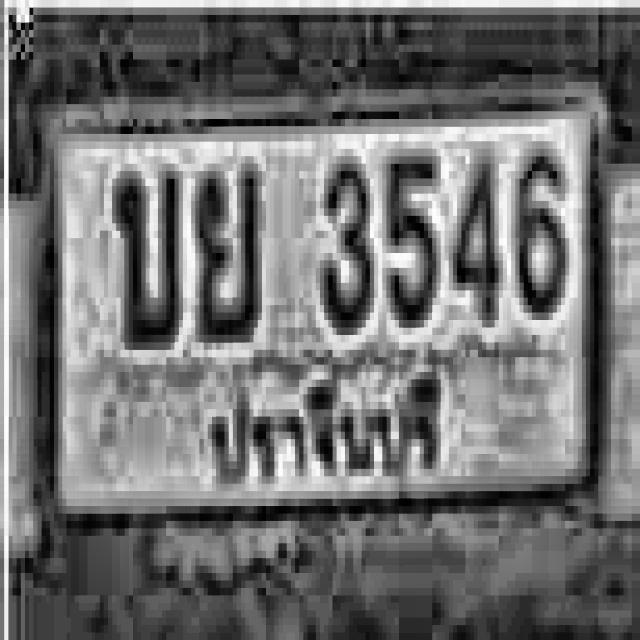license-plate: (31, 72, 608, 552)
